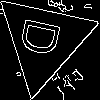D: (19, 15, 69, 61)
